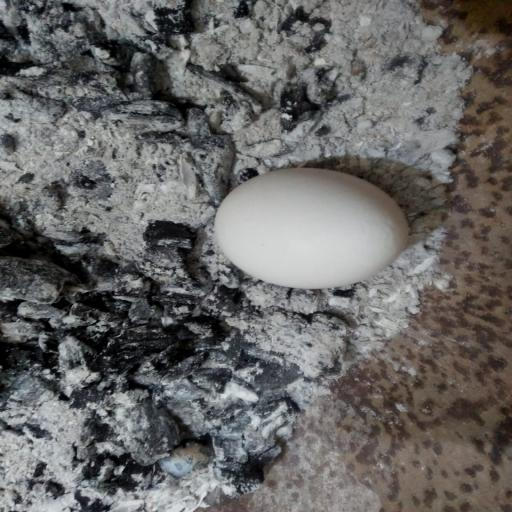telur: (212, 168, 410, 290)
